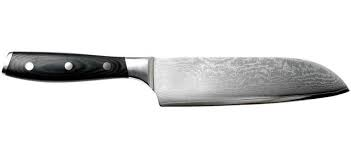knife: (1, 49, 350, 109)
